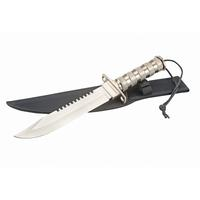knife: (12, 51, 168, 146)
